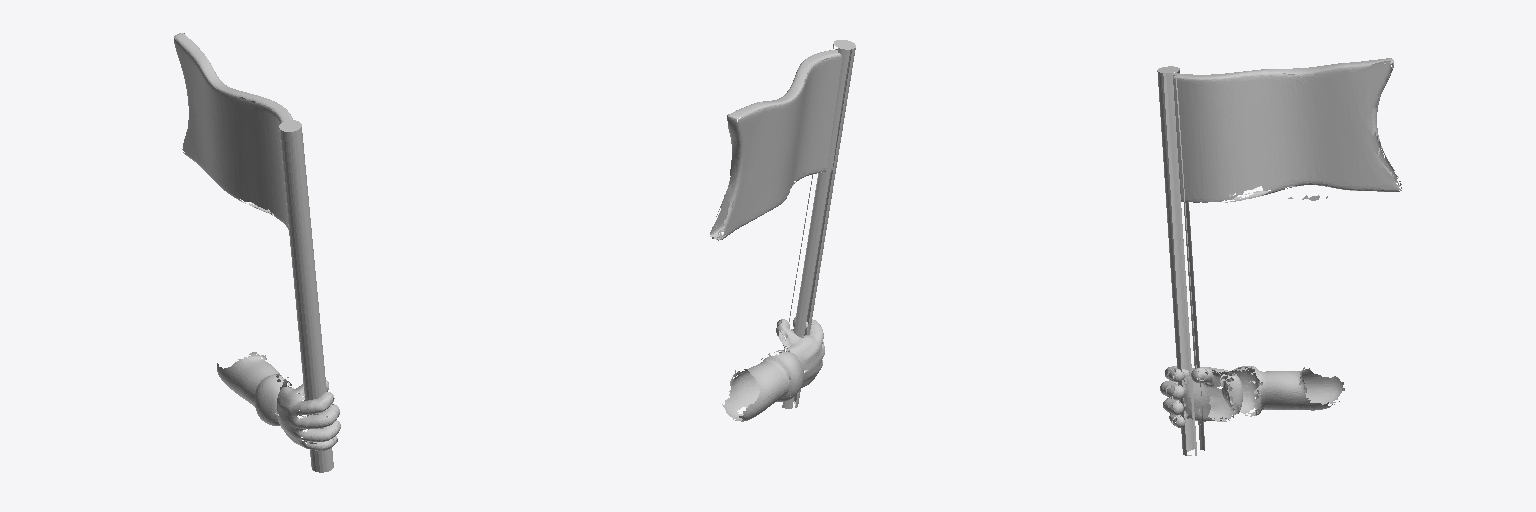
Rendered from flag.obj.
The picture shows the model from 3 angles: view 1: azimuth 30°, elevation 25°; view 2: azimuth 150°, elevation 25°; view 3: azimuth 270°, elevation 25°; orthographic projection.
Visible parts, largest first — view 1: flag_Flag_Zombie_without_base.004; view 2: flag_Flag_Zombie_without_base.004; view 3: flag_Flag_Zombie_without_base.004.
Part boxes in pixels (x1,y1,x2,y2): flag_Flag_Zombie_without_base.004: (174, 33, 340, 472); flag_Flag_Zombie_without_base.004: (710, 40, 855, 421); flag_Flag_Zombie_without_base.004: (1157, 58, 1401, 455).
Bounding box in the file's own units: 13.73 × 72.73 × 43.3.